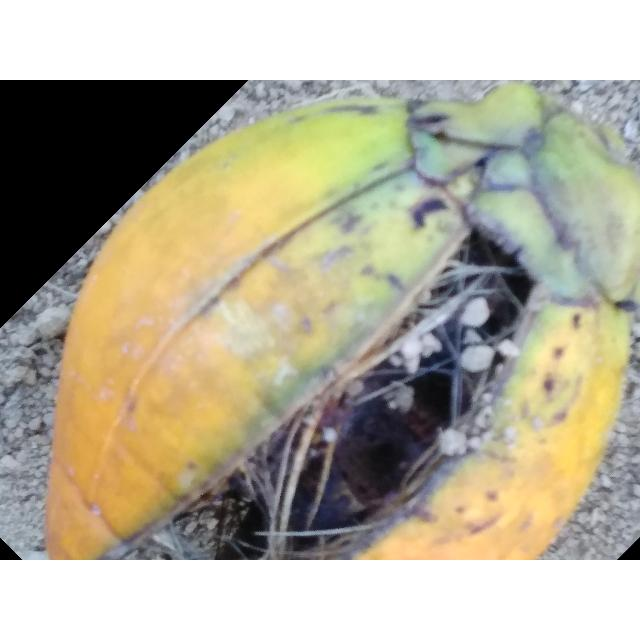damaged: (44, 83, 640, 560)
